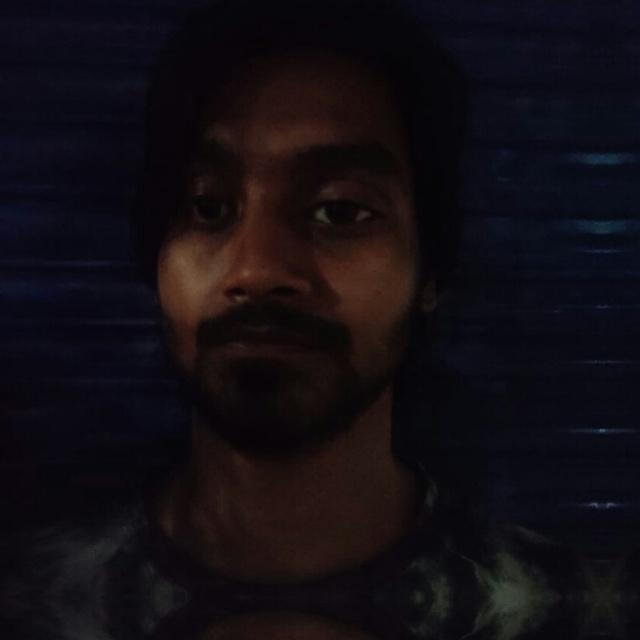Natural: (77, 30, 485, 468)
